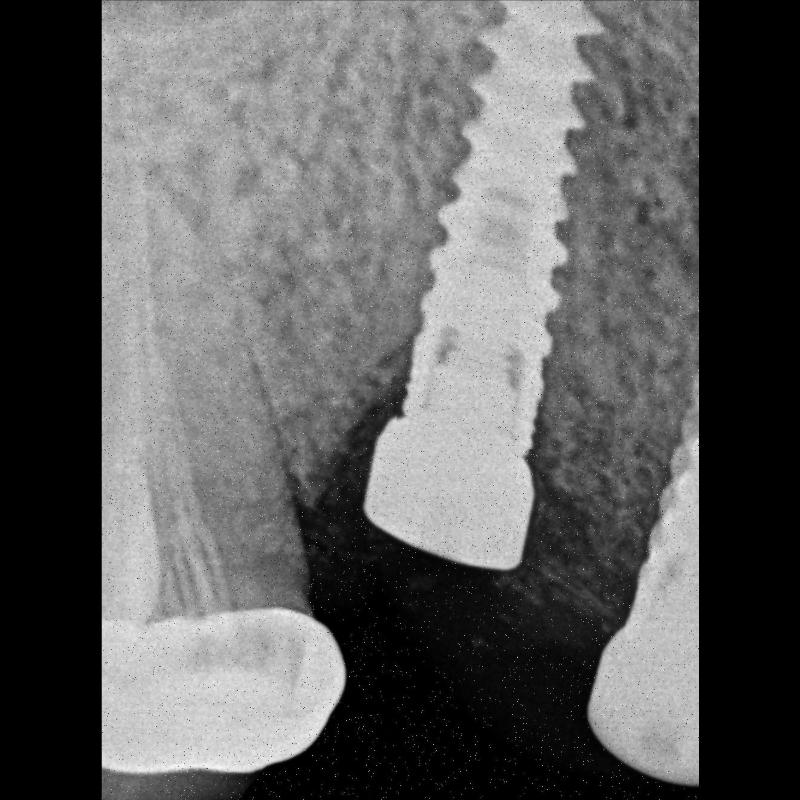ADIN: (391, 1, 613, 451)
